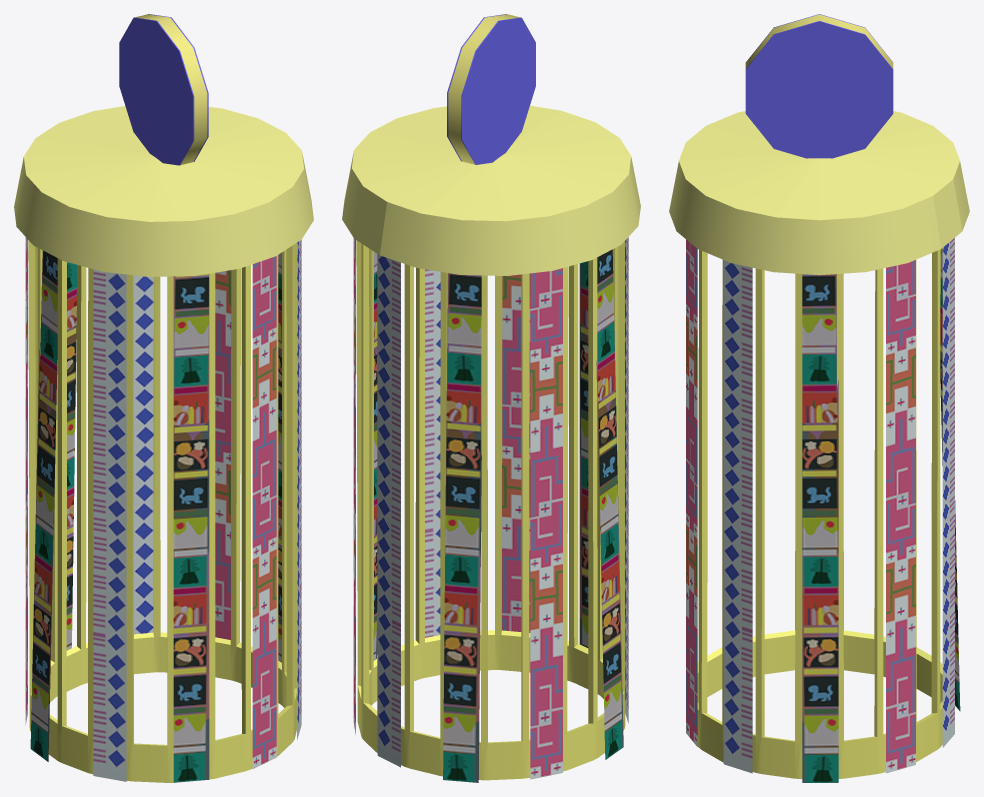
The model's file is decorate _B.fbx.
The picture shows the model from 3 angles, left to right: view 1: azimuth 30°, elevation 25°; view 2: azimuth 150°, elevation 25°; view 3: azimuth 270°, elevation 25°; orthographic projection.
Visible parts, largest first — view 1: LargePillar; view 2: LargePillar; view 3: LargePillar.
Boxes of the visible parts, <box> form: LargePillar: <box>14,14,313,782</box>; LargePillar: <box>342,14,640,782</box>; LargePillar: <box>669,14,969,782</box>.
Bounding box in the file's own units: 18.11 × 46.85 × 18.11.
4 materials, 2 textured.
